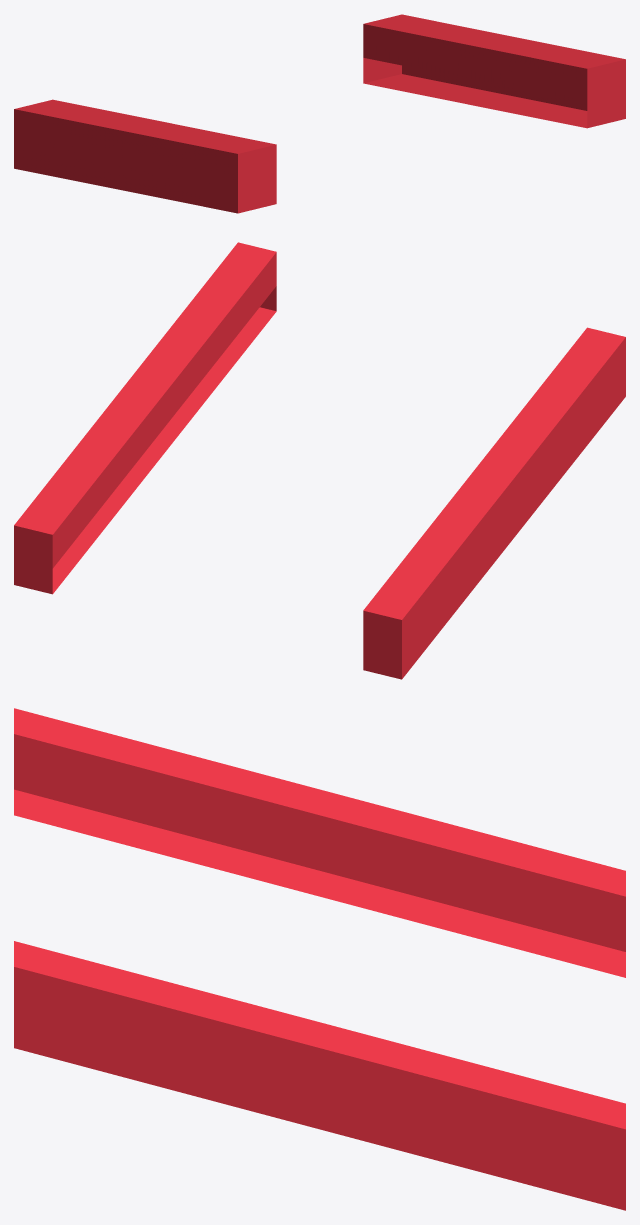
Rendered from ramp B paredes.FBX.
3 views of the same model, one above another, from view 1: azimuth 30°, elevation 25°; view 2: azimuth 150°, elevation 25°; view 3: azimuth 270°, elevation 25° (orthographic). The views are drawn at different scales.
Parts seen in each view (by area): view 1: rampB; view 2: rampB; view 3: rampB.
Part boxes in pixels (box(x1,y1,x2,y2)): rampB: box(14, 14, 625, 213); rampB: box(14, 242, 625, 679); rampB: box(14, 708, 625, 1210).
Size of the model in its own units: 99.99 by 44 by 99.99.
